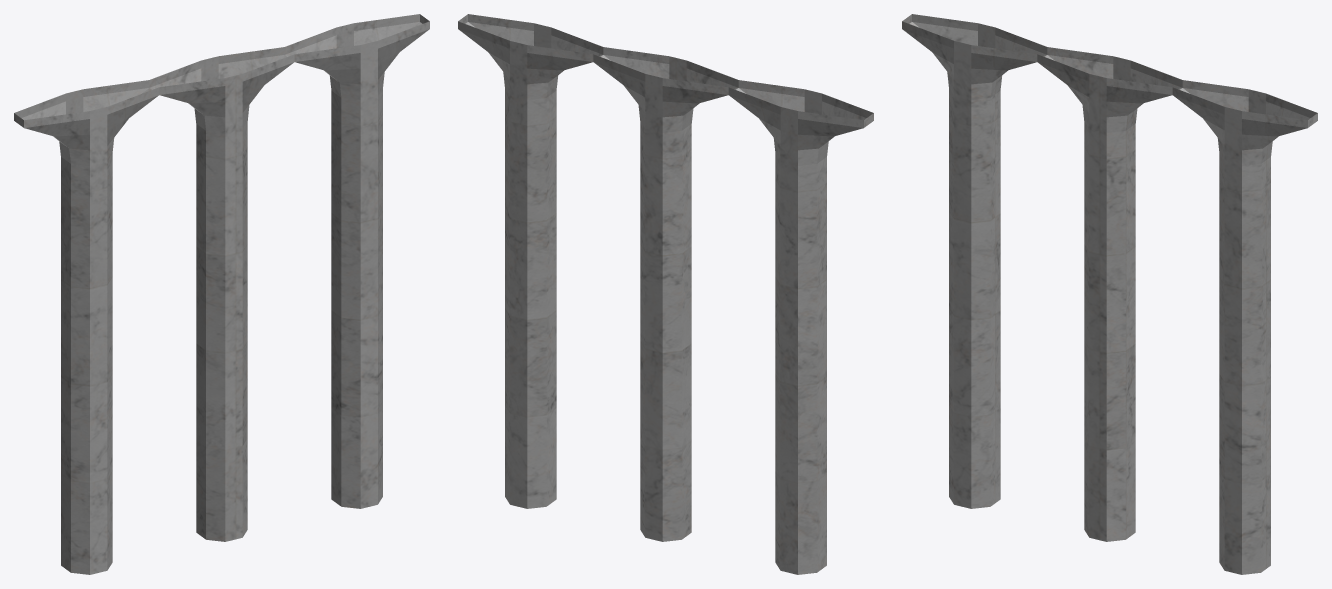
Rendered from PILLARS.fbx.
The picture shows the model from 3 angles, left to right: view 1: azimuth 30°, elevation 25°; view 2: azimuth 150°, elevation 25°; view 3: azimuth 330°, elevation 25°; orthographic projection.
Parts seen in each view (by area): view 1: PillarsTriple; view 2: PillarsTriple; view 3: PillarsTriple.
Boxes of the visible parts, x1,y1,x2,y2 form: PillarsTriple: [14, 14, 429, 574]; PillarsTriple: [458, 14, 873, 574]; PillarsTriple: [902, 14, 1317, 574].
Bounding box in the file's own units: 270 × 295 × 27.72.
